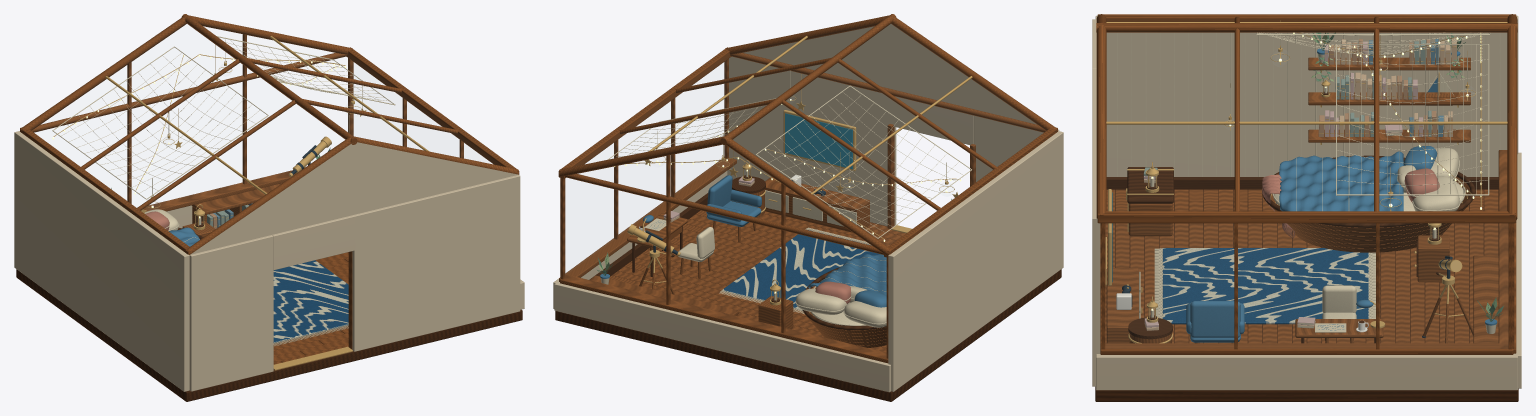
File: dream_bedroom_2.glb
The picture shows the model from 3 angles, left to right: view 1: azimuth 30°, elevation 25°; view 2: azimuth 150°, elevation 25°; view 3: azimuth 270°, elevation 25°; orthographic projection. The views are drawn at different scales.
Visible parts, largest first — view 1: WALL_SOUTH_GEOMETRY, WALL_WEST_GEOMETRY, CEILING_GEOMETRY, WALL_NORTH_GEOMETRY, FLOOR_GEOMETRY, FURN_RUG_GEOMETRY, WALL_EAST_GEOMETRY, FURN_WINDOW_BENCH_GEOMETRY, FURN_BED_GEOMETRY, FURN_TELESCOPE_GEOMETRY; view 2: WALL_SOUTH_GEOMETRY, WALL_WEST_GEOMETRY, WALL_NORTH_GEOMETRY, FLOOR_GEOMETRY, CEILING_GEOMETRY, WALL_EAST_GEOMETRY, FURN_BED_GEOMETRY, FURN_RUG_GEOMETRY, FURN_TV_GEOMETRY, FURN_MEDIA_CONSOLE_GEOMETRY, FURN_CHAIR_READING_GEOMETRY, FURN_DESK_GEOMETRY (+5 smaller); view 3: WALL_WEST_GEOMETRY, WALL_EAST_GEOMETRY, FLOOR_GEOMETRY, CEILING_GEOMETRY, FURN_BED_GEOMETRY, FURN_RUG_GEOMETRY, FURN_BOOKCASE_GEOMETRY, WALL_NORTH_GEOMETRY, WALL_SOUTH_GEOMETRY, FURN_CHEST_GEOMETRY, FURN_WINDOW_BENCH_GEOMETRY, FURN_CHAIR_READING_GEOMETRY (+7 smaller).
Boxes of the visible parts, x1=… form: WALL_SOUTH_GEOMETRY: x1=185, y1=136, x2=520, y2=391; WALL_WEST_GEOMETRY: x1=14, y1=127, x2=190, y2=391; CEILING_GEOMETRY: x1=52, y1=14, x2=458, y2=213; WALL_NORTH_GEOMETRY: x1=20, y1=15, x2=352, y2=228; FLOOR_GEOMETRY: x1=16, y1=228, x2=522, y2=401; FURN_RUG_GEOMETRY: x1=273, y1=260, x2=348, y2=346; WALL_EAST_GEOMETRY: x1=346, y1=47, x2=524, y2=309; FURN_WINDOW_BENCH_GEOMETRY: x1=192, y1=147, x2=330, y2=228; FURN_BED_GEOMETRY: x1=144, y1=209, x2=203, y2=246; FURN_TELESCOPE_GEOMETRY: x1=288, y1=136, x2=331, y2=176; WALL_SOUTH_GEOMETRY: x1=725, y1=15, x2=1059, y2=233; WALL_WEST_GEOMETRY: x1=884, y1=127, x2=1063, y2=391; WALL_NORTH_GEOMETRY: x1=554, y1=136, x2=892, y2=392; FLOOR_GEOMETRY: x1=555, y1=210, x2=1061, y2=401; CEILING_GEOMETRY: x1=608, y1=14, x2=997, y2=241; WALL_EAST_GEOMETRY: x1=553, y1=47, x2=736, y2=308; FURN_BED_GEOMETRY: x1=795, y1=254, x2=886, y2=347; FURN_RUG_GEOMETRY: x1=719, y1=227, x2=879, y2=314; FURN_TV_GEOMETRY: x1=783, y1=110, x2=856, y2=171; FURN_MEDIA_CONSOLE_GEOMETRY: x1=765, y1=176, x2=869, y2=232; FURN_CHAIR_READING_GEOMETRY: x1=706, y1=175, x2=761, y2=242; FURN_DESK_GEOMETRY: x1=627, y1=211, x2=687, y2=276; WALL_WEST_GEOMETRY: x1=1095, y1=14, x2=1518, y2=189; WALL_EAST_GEOMETRY: x1=1096, y1=211, x2=1517, y2=390; FLOOR_GEOMETRY: x1=1095, y1=189, x2=1518, y2=401; CEILING_GEOMETRY: x1=1096, y1=16, x2=1517, y2=211; FURN_BED_GEOMETRY: x1=1262, y1=146, x2=1475, y2=252; FURN_RUG_GEOMETRY: x1=1154, y1=248, x2=1375, y2=324; FURN_BOOKCASE_GEOMETRY: x1=1308, y1=32, x2=1470, y2=144; WALL_NORTH_GEOMETRY: x1=1498, y1=14, x2=1521, y2=388; WALL_SOUTH_GEOMETRY: x1=1092, y1=14, x2=1106, y2=386; FURN_CHEST_GEOMETRY: x1=1126, y1=162, x2=1173, y2=236; FURN_WINDOW_BENCH_GEOMETRY: x1=1473, y1=255, x2=1503, y2=343; FURN_CHAIR_READING_GEOMETRY: x1=1186, y1=301, x2=1244, y2=343.
Size of the model in its own units: 8.28 by 5.18 by 7.28.
21 materials, 6 textured.
